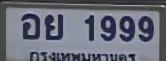1: (84, 14, 93, 40)
9: (100, 14, 115, 40), (138, 15, 153, 41), (119, 15, 134, 41)
A34: (44, 13, 62, 39)
A43: (20, 12, 39, 39)
BKK: (29, 50, 138, 61)
